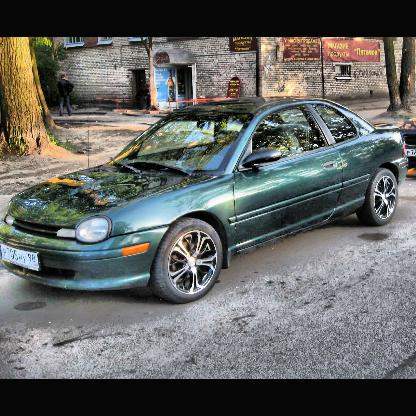Plymouth Neon Coupe 1999: (3, 96, 410, 307)
